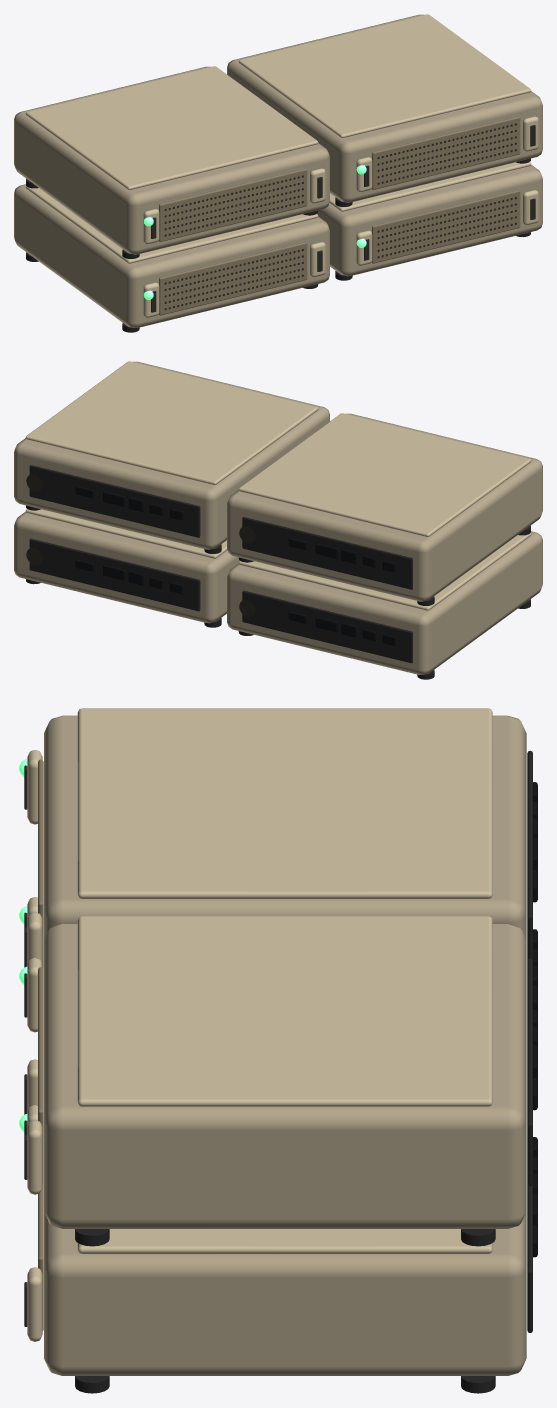
The model's file is goagent-spark-cluster.glb.
3 renders of one model, top to bottom at view 1: azimuth 30°, elevation 25°; view 2: azimuth 150°, elevation 25°; view 3: azimuth 270°, elevation 25°, orthographic. The views are drawn at different scales.
Parts seen in each view (by area): view 1: ClusterNode_Chassis (×4), ClusterNode_TopPanel (×4), ClusterNode_FrontGrille (×4), ClusterNode_FrontHandle_2 (×4), ClusterNode_FrontHandle_1 (×4); view 2: ClusterNode_Chassis (×4), ClusterNode_TopPanel (×4), ClusterNode_RearPanel (×4); view 3: ClusterNode_TopPanel (×3), ClusterNode_Chassis (×3), ClusterNode_RearPanel (×3), ClusterNode_FrontHandle_2 (×2), ClusterNode_FrontGrille (×2), ClusterNode_FrontHandle_1 (×2).
Boxes of the visible parts, x1,y1,x2,y2 form: ClusterNode_Chassis (×4): (14, 14, 542, 327); ClusterNode_TopPanel (×4): (25, 14, 531, 263); ClusterNode_FrontGrille (×4): (159, 116, 520, 315); ClusterNode_FrontHandle_2 (×4): (309, 116, 538, 276); ClusterNode_FrontHandle_1 (×4): (143, 157, 372, 317); ClusterNode_Chassis (×4): (14, 361, 542, 674); ClusterNode_TopPanel (×4): (25, 361, 531, 610); ClusterNode_RearPanel (×4): (29, 465, 412, 663); ClusterNode_TopPanel (×3): (77, 708, 492, 1253); ClusterNode_Chassis (×3): (44, 715, 526, 1375); ClusterNode_RearPanel (×3): (527, 750, 532, 1332); ClusterNode_FrontHandle_2 (×2): (27, 1120, 42, 1341); ClusterNode_FrontGrille (×2): (38, 759, 43, 1183); ClusterNode_FrontHandle_1 (×2): (27, 750, 42, 1032).
Bounding box in the file's own units: 4.14 × 1.39 × 2.24.
